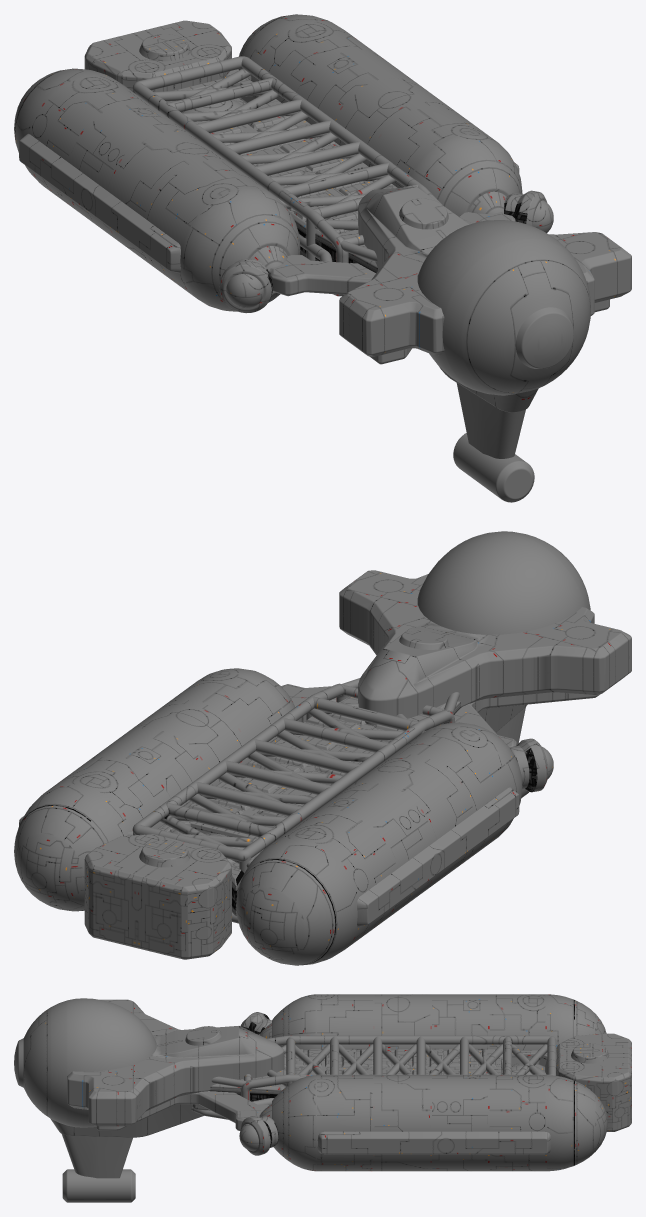
File: Dorkir_Test.fbx
3 renders of one model, top to bottom at view 1: azimuth 30°, elevation 25°; view 2: azimuth 150°, elevation 25°; view 3: azimuth 270°, elevation 25°, orthographic. The views are drawn at different scales.
Parts seen in each view (by area): view 1: Tanks, Main Hull, Scaffold, Engies, Object001; view 2: Tanks, Main Hull, Engies, Scaffold, Object001; view 3: Tanks, Main Hull, Scaffold, Engies, Object001.
Part boxes in pixels (bbox=[...]): Tanks: bbox=[14, 14, 553, 313]; Main Hull: bbox=[166, 69, 631, 502]; Scaffold: bbox=[132, 56, 442, 296]; Engies: bbox=[84, 20, 231, 91]; Object001: bbox=[154, 69, 396, 230]; Tanks: bbox=[14, 668, 553, 965]; Main Hull: bbox=[158, 531, 631, 915]; Engies: bbox=[84, 834, 231, 959]; Scaffold: bbox=[132, 677, 459, 923]; Object001: bbox=[128, 703, 407, 867]; Tanks: bbox=[239, 994, 607, 1171]; Main Hull: bbox=[14, 998, 556, 1202]; Scaffold: bbox=[191, 1035, 556, 1119]; Engies: bbox=[556, 1033, 631, 1131]; Object001: bbox=[267, 1044, 547, 1086].
Size of what is drawn, in the model's own units: 91.7 by 66.23 by 188.
Materials: 2 (2 with a texture image).
